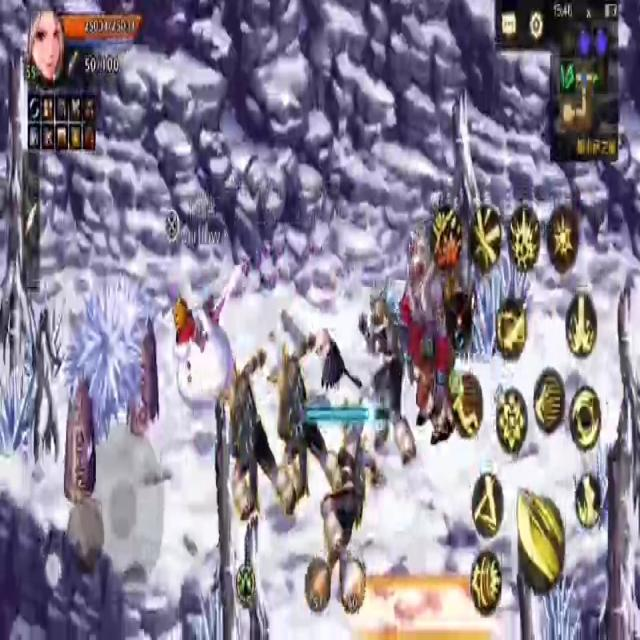player: (173, 287, 236, 415)
